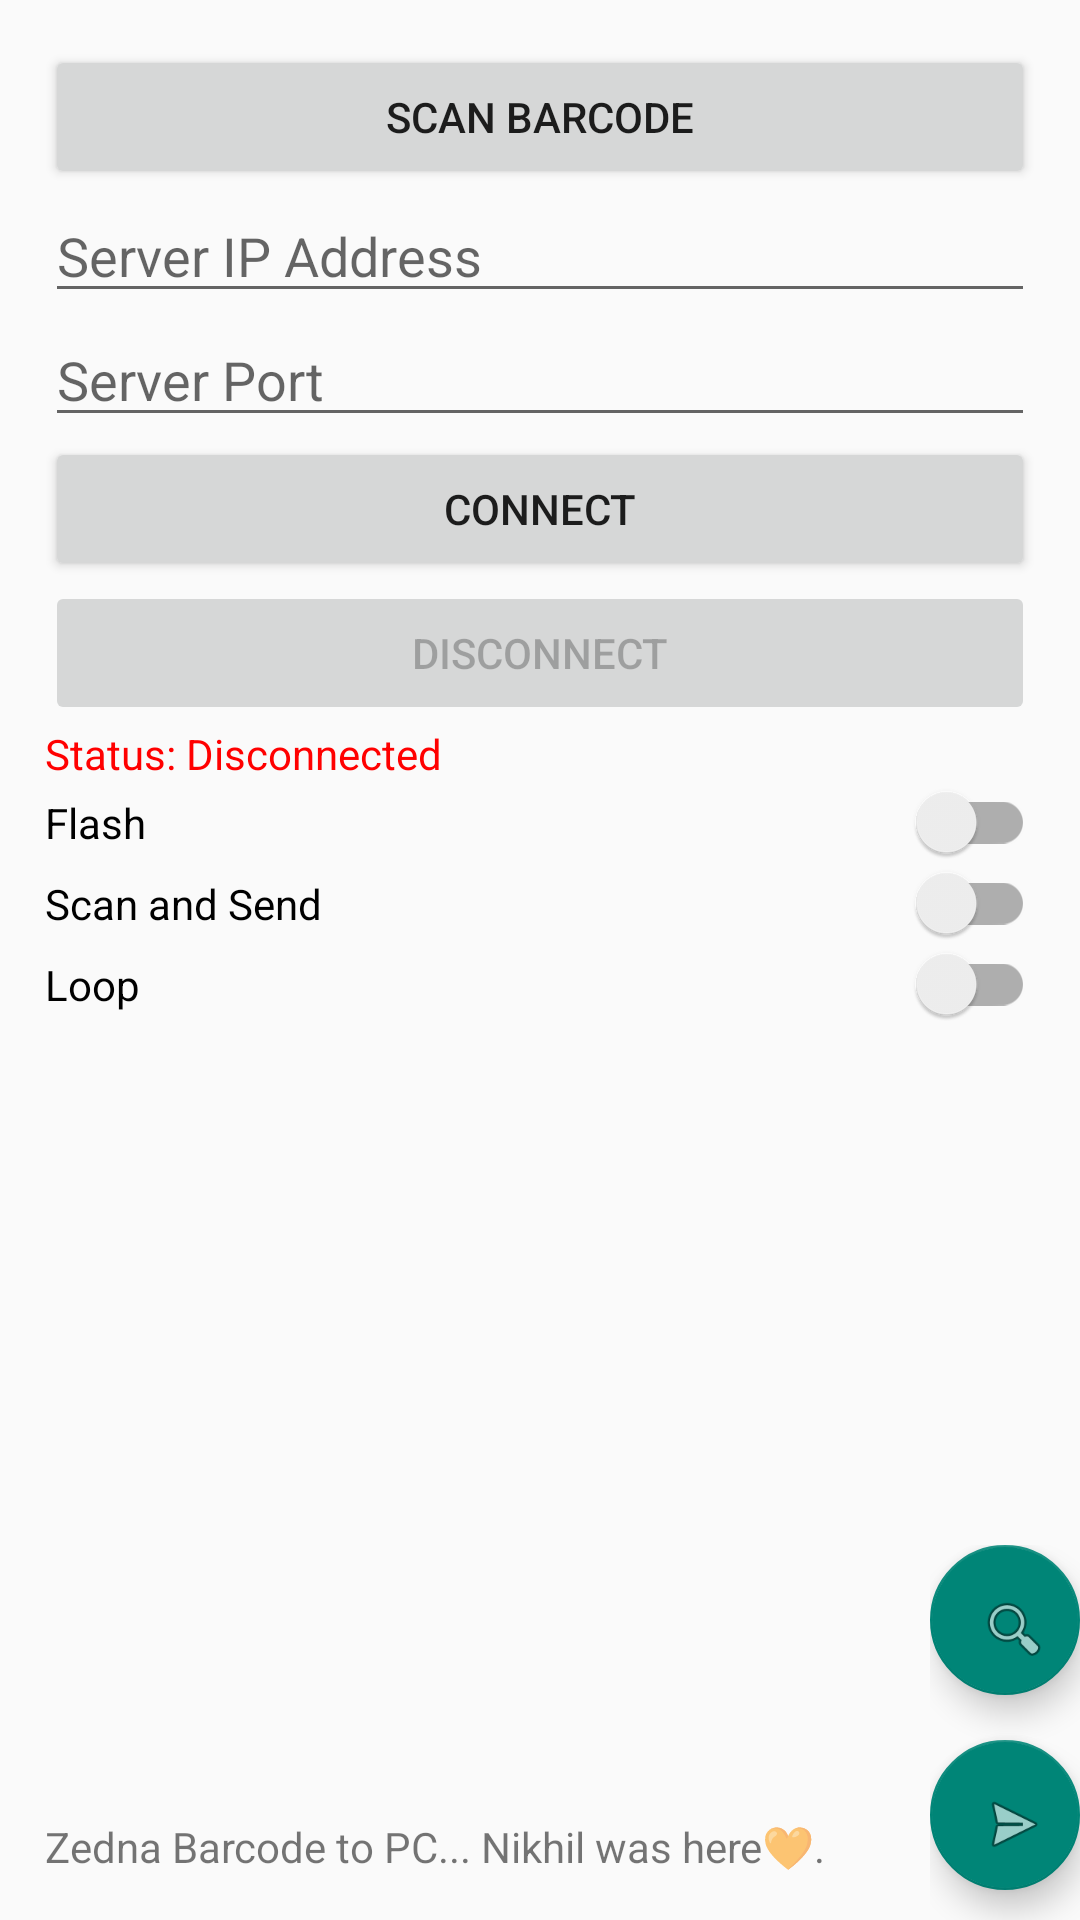

Screen size 1080w x 1920h. Icon name, then its center in pixels as (x,y):
search: (1005,1620)
send: (1005,1815)
